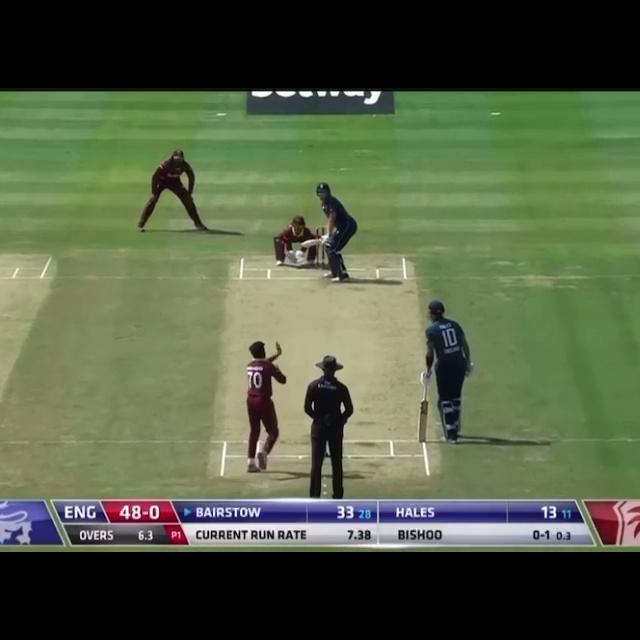umpire: (292, 347, 365, 500)
